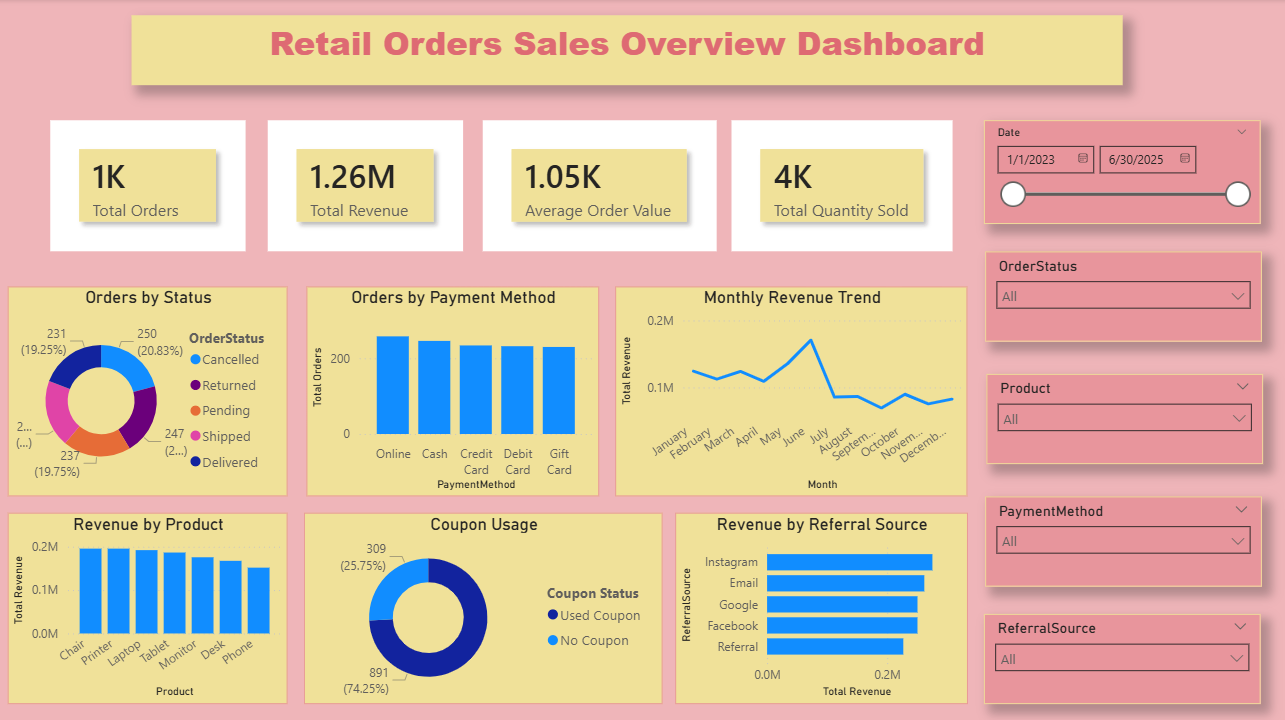

What the dashboard file says about the page in this screenshot:
{"tool":"powerbi","page":{"name":"Sales Overview","canvas":[1280,720],"ordinal":0},"visuals":[{"type":"textbox","box":[131.9,16.2,986.5,69.7],"z":0},{"type":"cardVisual","title":"Total Orders","fields":{"Data":["orders_cleaned.Total Orders"]},"box":[51,120.7,194.1,130.6],"z":1000},{"type":"cardVisual","fields":{"Data":["orders_cleaned.Total Revenue"]},"box":[267.5,120.7,194.1,130.6],"z":2000},{"type":"cardVisual","fields":{"Data":["orders_cleaned.Average Order Value"]},"box":[481.4,120.7,232.6,130.6],"z":3000},{"type":"cardVisual","fields":{"Data":["orders_cleaned.Total Quantity Sold"]},"box":[729,120.7,220.2,130.6],"z":4000},{"type":"donutChart","title":"Orders by Status","fields":{"Category":["orders_cleaned.OrderStatus"],"Y":["orders_cleaned.Total Orders"]},"box":[8.7,286.1,278.6,209],"z":4001},{"type":"clusteredColumnChart","title":"Revenue by Product","fields":{"Category":["orders_cleaned.Product"],"Y":["orders_cleaned.Total Revenue"]},"box":[8.7,511.3,278.6,190.3],"z":4002},{"type":"clusteredColumnChart","title":"Orders by Payment Method","fields":{"Y":["orders_cleaned.Total Orders"],"Category":["orders_cleaned.PaymentMethod"]},"box":[306,286.1,291.1,209],"z":4003},{"type":"clusteredBarChart","title":"Revenue by Referral Source","fields":{"Category":["orders_cleaned.ReferralSource"],"Y":["orders_cleaned.Total Revenue"]},"box":[673,511.3,291.1,190.3],"z":4004},{"type":"lineChart","title":"Monthly Revenue Trend","fields":{"Category":["orders_cleaned.Date.Variation.Date Hierarchy.Month"],"Y":["orders_cleaned.Total Revenue"]},"box":[613.3,286.1,350.8,209],"z":4005},{"type":"donutChart","title":"Coupon Usage","fields":{"Category":["orders_cleaned.Coupon Status"],"Y":["orders_cleaned.Total Orders"]},"box":[303.5,511.3,357,190.3],"z":4006},{"type":"slicer","fields":{"Values":["orders_cleaned.Date"]},"box":[980.2,120.7,274.9,103.2],"z":4007},{"type":"slicer","fields":{"Values":["orders_cleaned.Product"]},"box":[982.7,373.2,274.9,89.6],"z":4008},{"type":"slicer","fields":{"Values":["orders_cleaned.OrderStatus"]},"box":[981.5,251.3,274.9,89.6],"z":4009},{"type":"slicer","fields":{"Values":["orders_cleaned.PaymentMethod"]},"box":[981.5,495.1,274.9,89.6],"z":4010},{"type":"slicer","fields":{"Values":["orders_cleaned.ReferralSource"]},"box":[980.2,612,274.9,89.6],"z":4011}]}

Visuals, with their boxes in screenshot pixels (x1, y1, x2, y2), scaled from the page's 1280x720 canvas onto the 1285x720 screenshot:
textbox: 132 16 1123 86
"Total Orders" cardVisual: 51 121 246 251
cardVisual - orders_cleaned.Total Revenue: 269 121 463 251
cardVisual - orders_cleaned.Average Order Value: 483 121 717 251
cardVisual - orders_cleaned.Total Quantity Sold: 732 121 953 251
"Orders by Status" donutChart: 9 286 288 495
"Revenue by Product" clusteredColumnChart: 9 511 288 702
"Orders by Payment Method" clusteredColumnChart: 307 286 599 495
"Revenue by Referral Source" clusteredBarChart: 676 511 968 702
"Monthly Revenue Trend" lineChart: 616 286 968 495
"Coupon Usage" donutChart: 305 511 663 702
slicer - orders_cleaned.Date: 984 121 1260 224
slicer - orders_cleaned.Product: 987 373 1263 463
slicer - orders_cleaned.OrderStatus: 985 251 1261 341
slicer - orders_cleaned.PaymentMethod: 985 495 1261 585
slicer - orders_cleaned.ReferralSource: 984 612 1260 702
